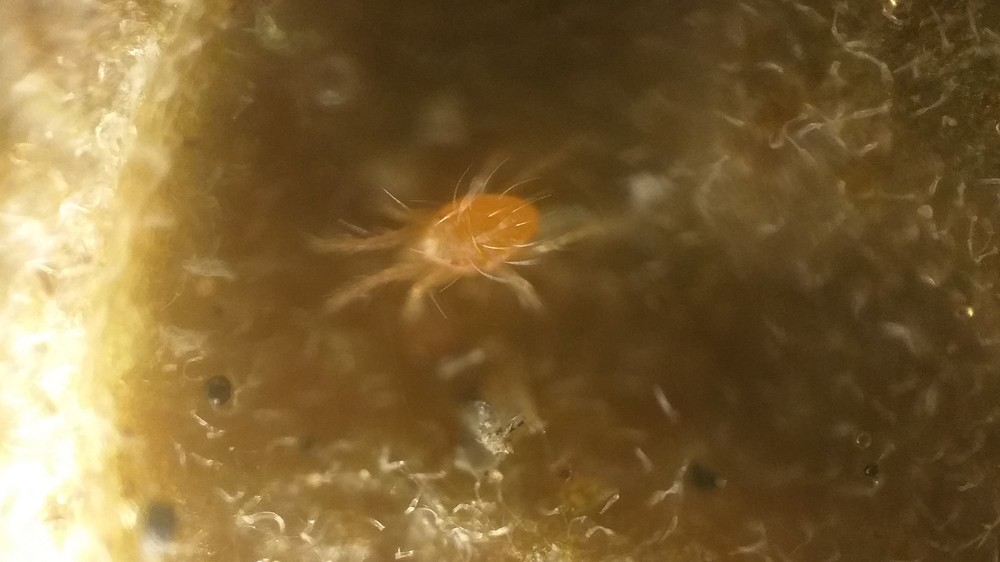Aracnido Rojo: (310, 139, 613, 348)
